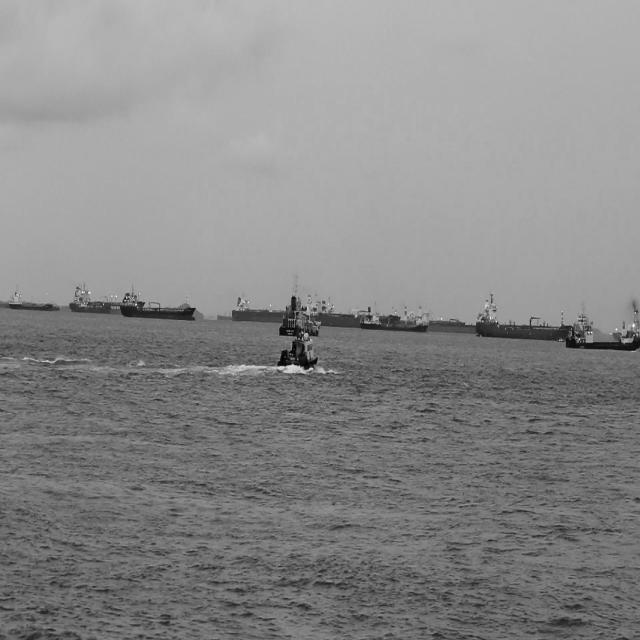boat: (267, 323, 325, 383)
ship: (472, 280, 574, 336), (563, 301, 637, 354), (299, 287, 379, 329), (119, 286, 198, 323), (360, 298, 430, 336), (399, 298, 468, 335), (228, 288, 297, 320), (276, 296, 322, 340), (610, 288, 640, 340), (70, 284, 112, 316), (6, 288, 56, 312), (85, 292, 131, 314), (206, 301, 226, 328)
